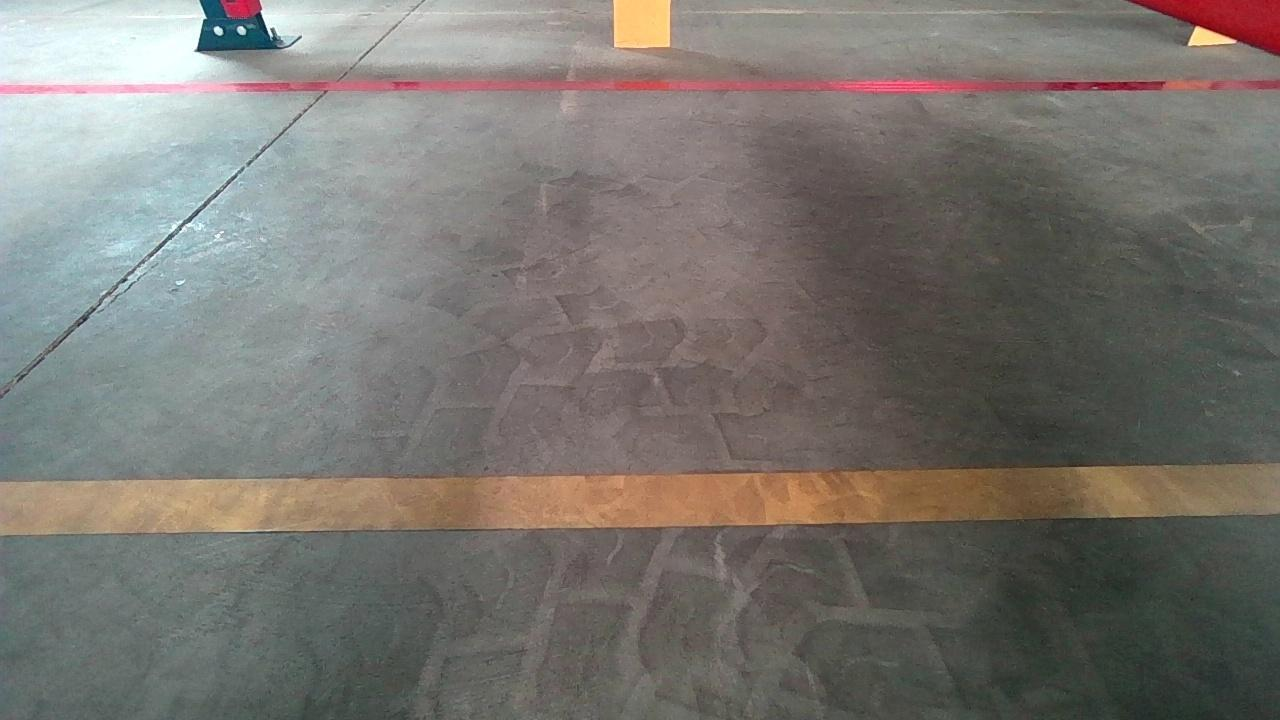red_line: (0, 75, 1280, 99)
